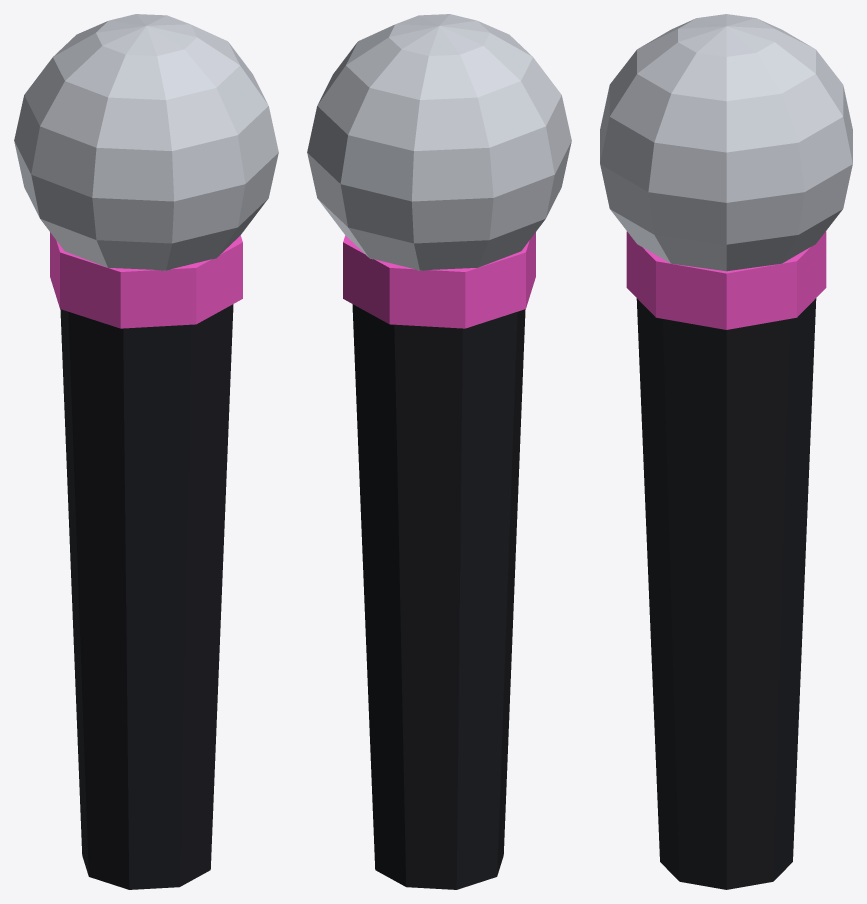
File: karaoke_mic.glb
3 views of the same model, side by side, from view 1: azimuth 30°, elevation 25°; view 2: azimuth 150°, elevation 25°; view 3: azimuth 270°, elevation 25° (orthographic).
Visible parts, largest first — view 1: handle_mic_black, head_mic_mesh, ring_mic_pink; view 2: handle_mic_black, head_mic_mesh, ring_mic_pink; view 3: handle_mic_black, head_mic_mesh, ring_mic_pink.
Boxes of the visible parts, box(x1,y1,x2,y2) form: handle_mic_black: box(60, 304, 233, 889); head_mic_mesh: box(14, 14, 278, 270); ring_mic_pink: box(50, 232, 242, 328); handle_mic_black: box(352, 304, 525, 889); head_mic_mesh: box(307, 14, 571, 270); ring_mic_pink: box(343, 232, 535, 328); handle_mic_black: box(636, 298, 816, 889); head_mic_mesh: box(600, 14, 852, 271); ring_mic_pink: box(626, 231, 826, 329).
Bounding box in the file's own units: 0.064 × 0.222 × 0.0609.
